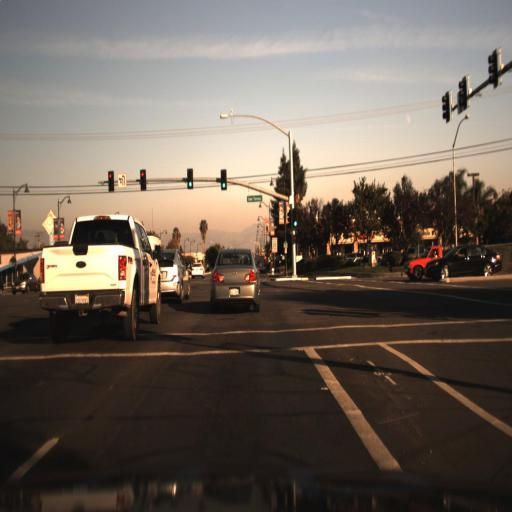car: (29, 197, 167, 344), (202, 240, 269, 324), (423, 239, 504, 288), (12, 230, 47, 282), (402, 241, 447, 281), (157, 248, 188, 302), (399, 243, 428, 288), (10, 271, 40, 297), (186, 252, 208, 286)
trafficLight: (136, 156, 146, 190), (186, 164, 196, 188), (107, 168, 116, 194)
trafficLight-Green: (215, 159, 232, 199), (290, 206, 298, 239), (184, 158, 193, 187), (292, 206, 300, 233)
trafficLight-Red: (219, 166, 228, 192)
trafficLight-RedLeft: (104, 160, 115, 192)
